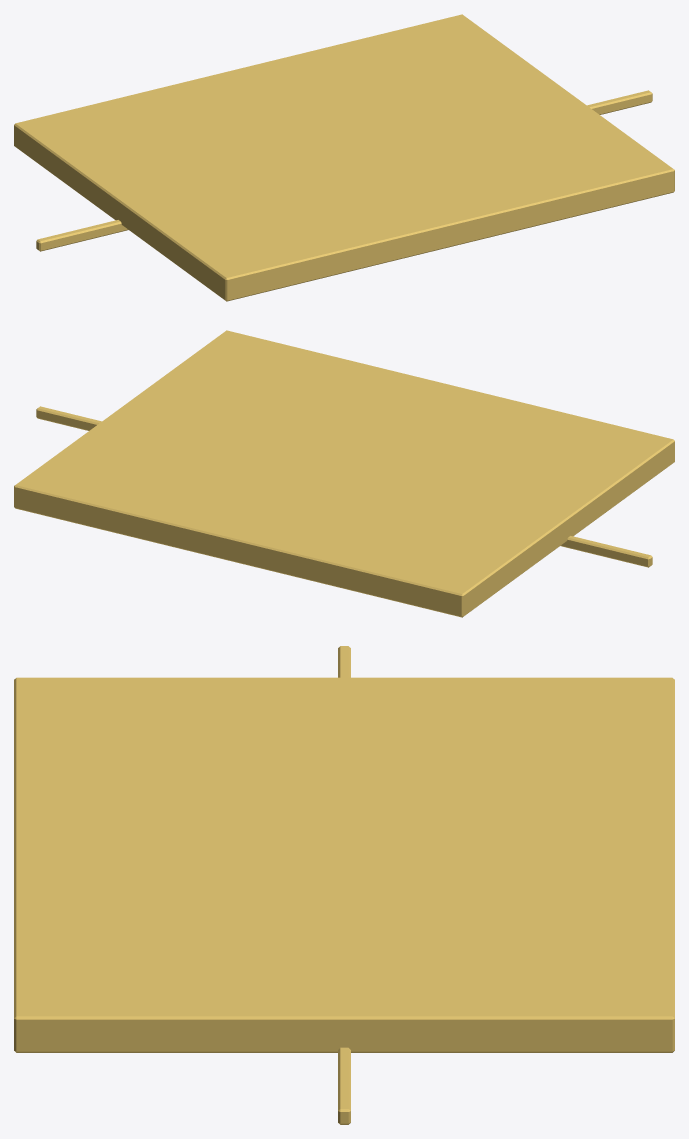
Rendered from SM_Deck_10x0p5x8p2.glb.
3 renders of one model, top to bottom at view 1: azimuth 30°, elevation 25°; view 2: azimuth 150°, elevation 25°; view 3: azimuth 270°, elevation 25°, orthographic. The views are drawn at different scales.
Visible parts, largest first — view 1: SM_Deck_10x0p5x8p2; view 2: SM_Deck_10x0p5x8p2; view 3: SM_Deck_10x0p5x8p2.
Part boxes in pixels (left/top/right/bottom): SM_Deck_10x0p5x8p2: left=14, top=14, right=674, bottom=301; SM_Deck_10x0p5x8p2: left=14, top=330, right=674, bottom=617; SM_Deck_10x0p5x8p2: left=14, top=646, right=674, bottom=1124.
Size of the model in its own units: 13.65 by 0.6364 by 8.2.
